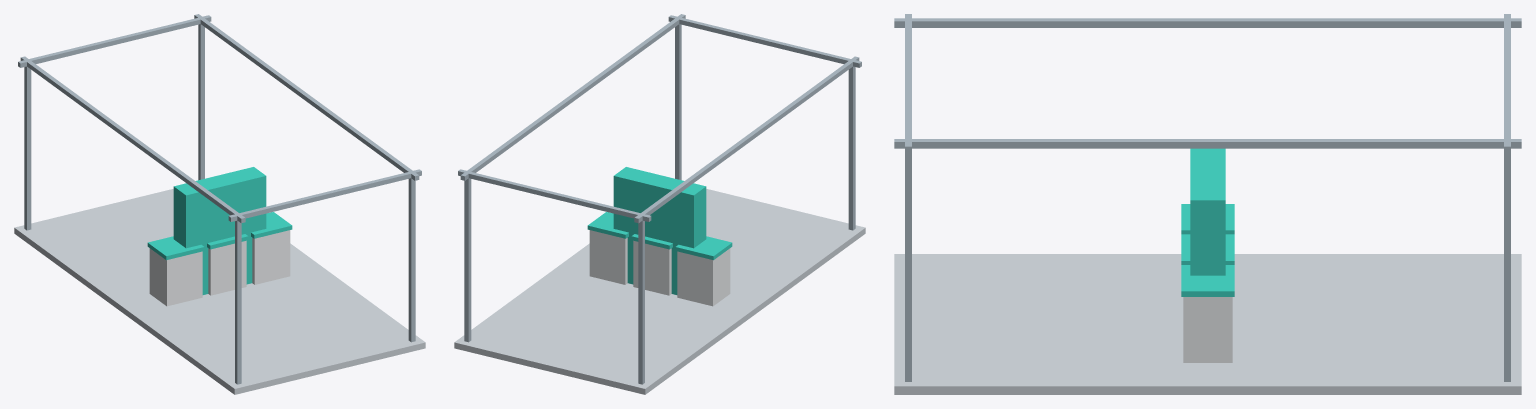
3 views of the same model, side by side, from view 1: azimuth 30°, elevation 25°; view 2: azimuth 150°, elevation 25°; view 3: azimuth 270°, elevation 25° (orthographic). The views are drawn at different scales.
Parts seen in each view (by area): view 1: Exhibition Booth Concept; view 2: Exhibition Booth Concept; view 3: Exhibition Booth Concept.
Boxes of the visible parts, x1=… form: Exhibition Booth Concept: x1=14, y1=14, x2=425, y2=394; Exhibition Booth Concept: x1=454, y1=14, x2=865, y2=394; Exhibition Booth Concept: x1=894, y1=14, x2=1521, y2=394.
Size of the model in its own units: 4 by 3.49 by 8.
